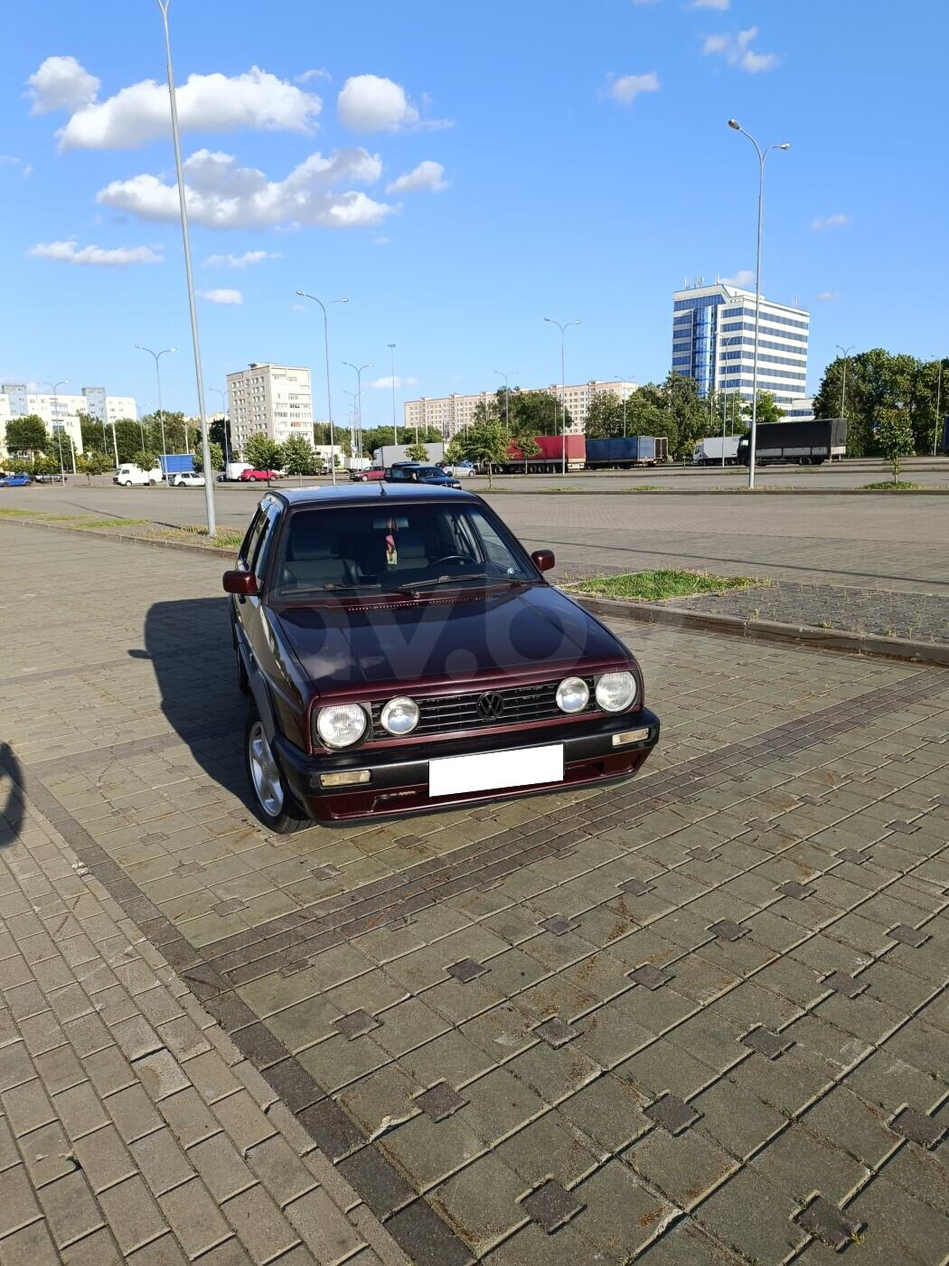Golf_1983-1992: (215, 483, 663, 837)
